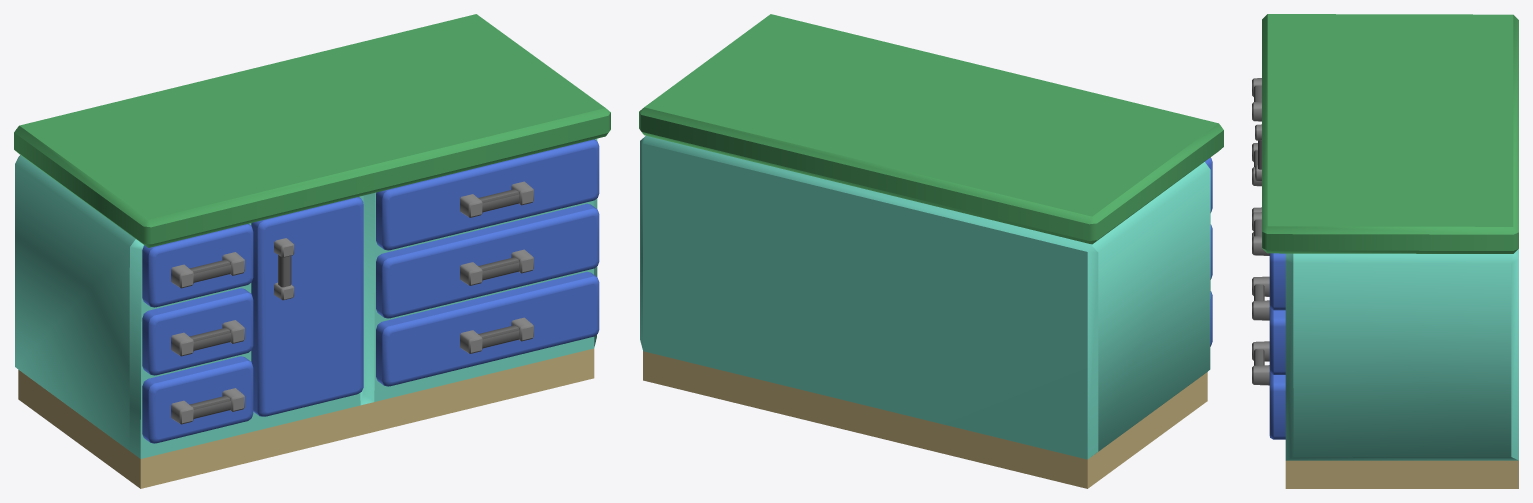
The model's file is Furnit_E_5_E.glb.
The picture shows the model from 3 angles, left to right: view 1: azimuth 30°, elevation 25°; view 2: azimuth 150°, elevation 25°; view 3: azimuth 270°, elevation 25°; orthographic projection. The views are drawn at different scales.
Parts seen in each view (by area): view 1: Furnit_E_5_E; view 2: Furnit_E_5_E; view 3: Furnit_E_5_E.
Part boxes in pixels (x1,y1,x2,y2): Furnit_E_5_E: [14, 14, 610, 488]; Furnit_E_5_E: [639, 14, 1223, 488]; Furnit_E_5_E: [1252, 14, 1518, 488].
Bounding box in the file's own units: 1.8 × 1.02 × 0.9348.
1 material, 1 textured.
